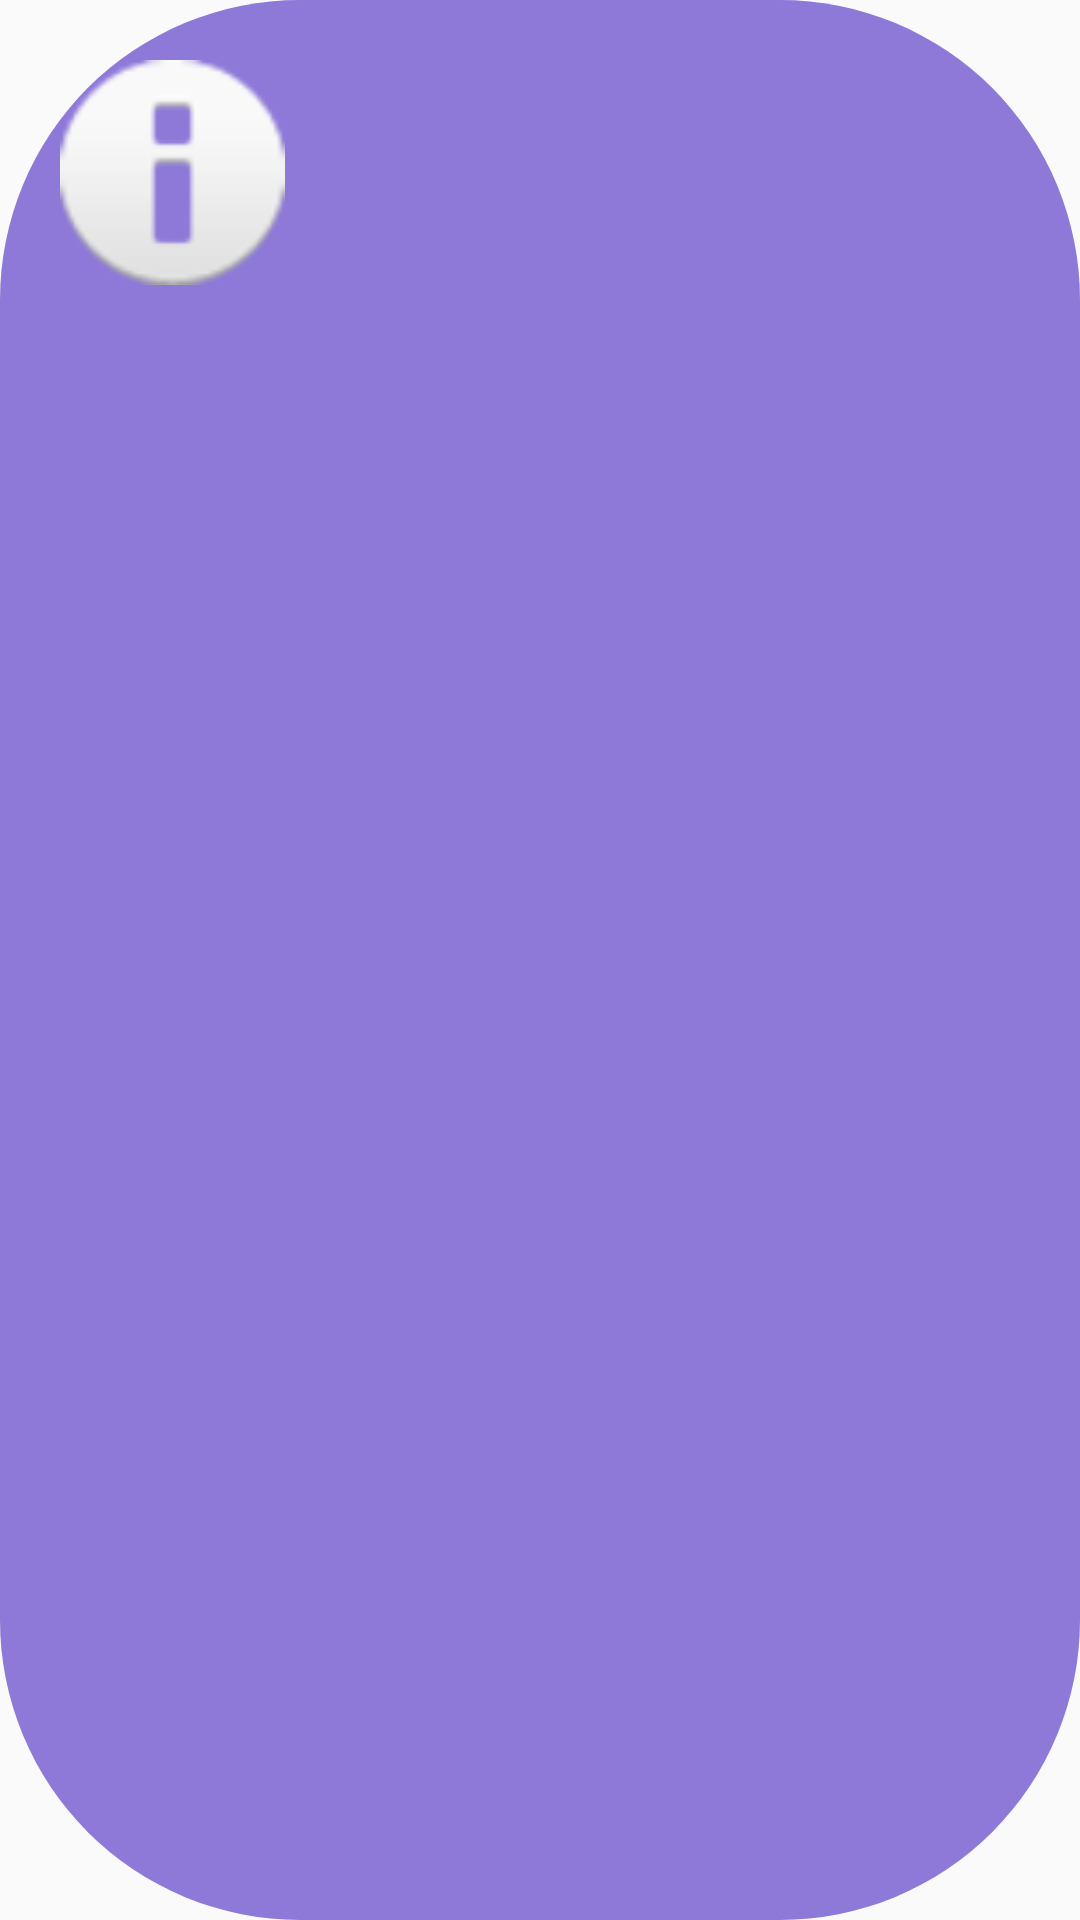

Icon click points for this 1080x1920 phone screenshot, format (x=x, y=y):
info: (x=172, y=172)
